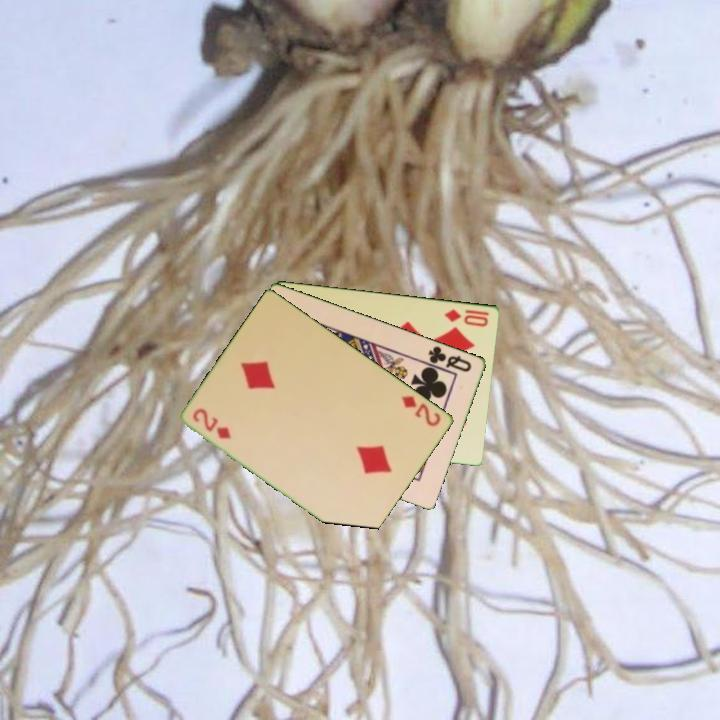10d: (441, 305, 492, 329)
2d: (189, 404, 234, 442), (398, 392, 444, 429)
Qc: (425, 342, 475, 375)
